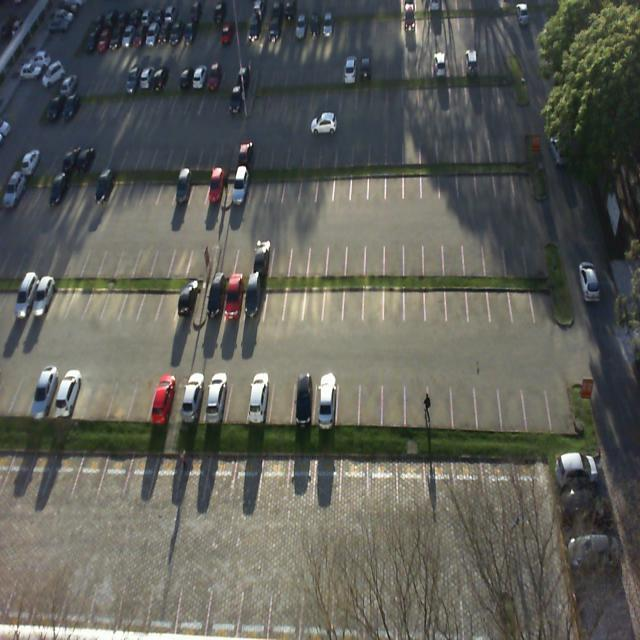space-empty: (94, 445, 132, 502), (123, 442, 158, 502), (71, 446, 106, 501), (148, 444, 182, 500), (43, 445, 78, 499), (231, 451, 264, 504), (545, 370, 576, 426), (499, 373, 528, 432), (204, 448, 238, 498), (175, 445, 208, 496), (312, 451, 342, 507), (223, 370, 254, 424), (21, 446, 55, 494), (259, 448, 290, 500), (523, 371, 550, 428), (64, 367, 93, 420), (476, 372, 502, 429), (117, 271, 146, 322), (83, 371, 112, 421), (288, 449, 314, 504), (106, 371, 134, 422), (452, 374, 479, 426), (136, 267, 162, 320), (428, 375, 454, 428), (127, 370, 154, 420), (268, 373, 294, 424), (154, 274, 180, 324), (262, 270, 286, 324), (530, 270, 557, 318), (359, 371, 382, 426), (382, 371, 405, 424), (101, 270, 125, 320), (335, 373, 359, 423), (405, 374, 428, 426), (486, 273, 511, 320), (483, 227, 507, 275), (443, 226, 466, 273), (130, 236, 156, 276), (113, 238, 140, 276), (509, 276, 532, 320), (303, 276, 324, 324), (155, 165, 178, 208), (525, 229, 548, 272), (444, 277, 467, 320), (467, 275, 488, 322), (148, 237, 172, 278), (188, 164, 211, 206), (363, 276, 384, 322), (282, 276, 302, 324), (167, 238, 192, 276), (505, 227, 526, 272), (322, 277, 343, 322), (425, 229, 445, 276), (188, 239, 212, 278), (139, 165, 162, 205), (511, 156, 534, 196), (287, 234, 310, 274), (404, 226, 424, 272), (404, 274, 424, 320), (426, 276, 446, 322), (382, 231, 404, 272), (229, 238, 252, 277), (464, 228, 484, 272), (213, 239, 236, 276), (384, 276, 402, 322), (307, 234, 328, 273), (345, 231, 364, 274), (268, 236, 290, 272), (345, 275, 362, 320), (324, 235, 344, 273), (364, 235, 383, 273), (458, 162, 478, 198), (478, 158, 496, 198), (299, 166, 317, 205), (494, 160, 514, 195), (267, 166, 284, 207), (283, 164, 300, 205), (250, 166, 268, 204), (368, 162, 386, 200), (422, 163, 440, 198), (333, 165, 350, 202), (388, 162, 404, 200), (403, 163, 420, 198), (440, 162, 458, 195), (316, 166, 332, 200), (351, 164, 367, 198)
space-occupied: (222, 272, 249, 326), (312, 372, 336, 428), (203, 370, 229, 420), (246, 372, 272, 422), (148, 374, 175, 422), (174, 272, 198, 324), (241, 275, 265, 325), (290, 372, 313, 424), (181, 373, 206, 418), (205, 273, 225, 327), (172, 165, 193, 208), (204, 166, 226, 206), (231, 164, 252, 205), (251, 235, 272, 272)
